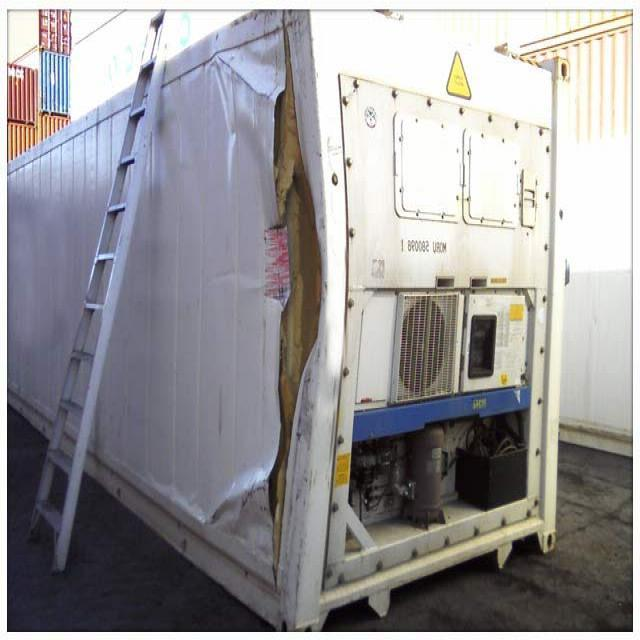dent: (217, 1, 369, 639)
